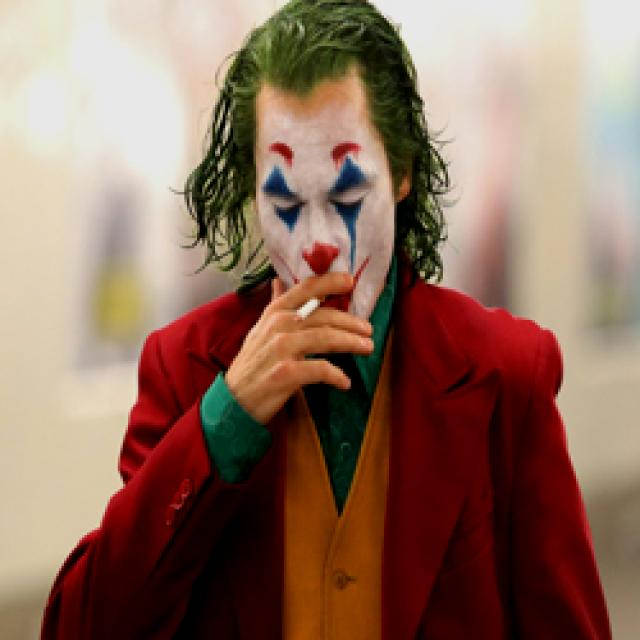Smooking: (293, 290, 320, 326)
